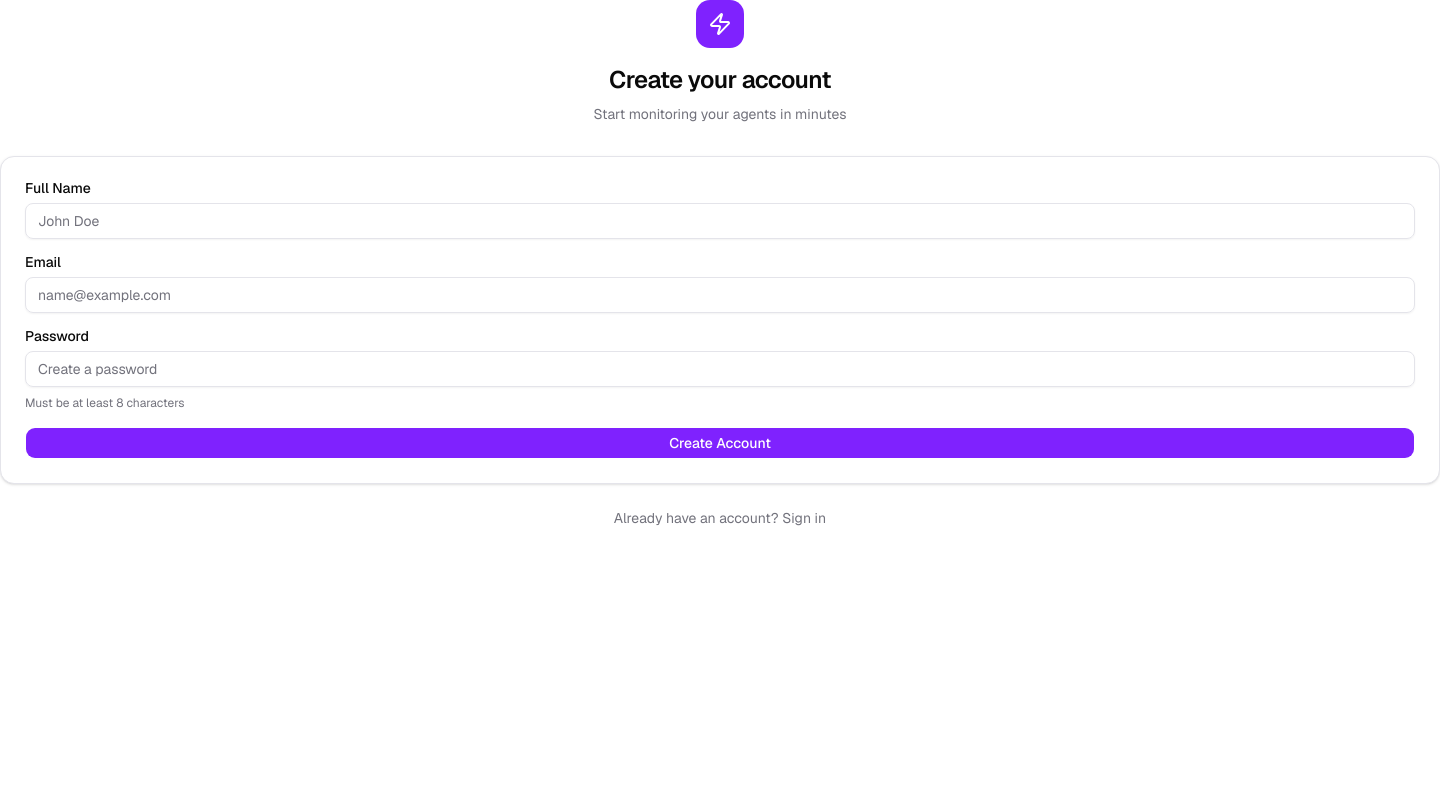
SignUpForm › shows validation error for empty email
The width and height of the screenshot is (1440, 810).
Step 1. Type "password123" into the password field labelled "Password" → {"x": 720, "y": 369}, box x1=25 y1=351 x2=1415 y2=387
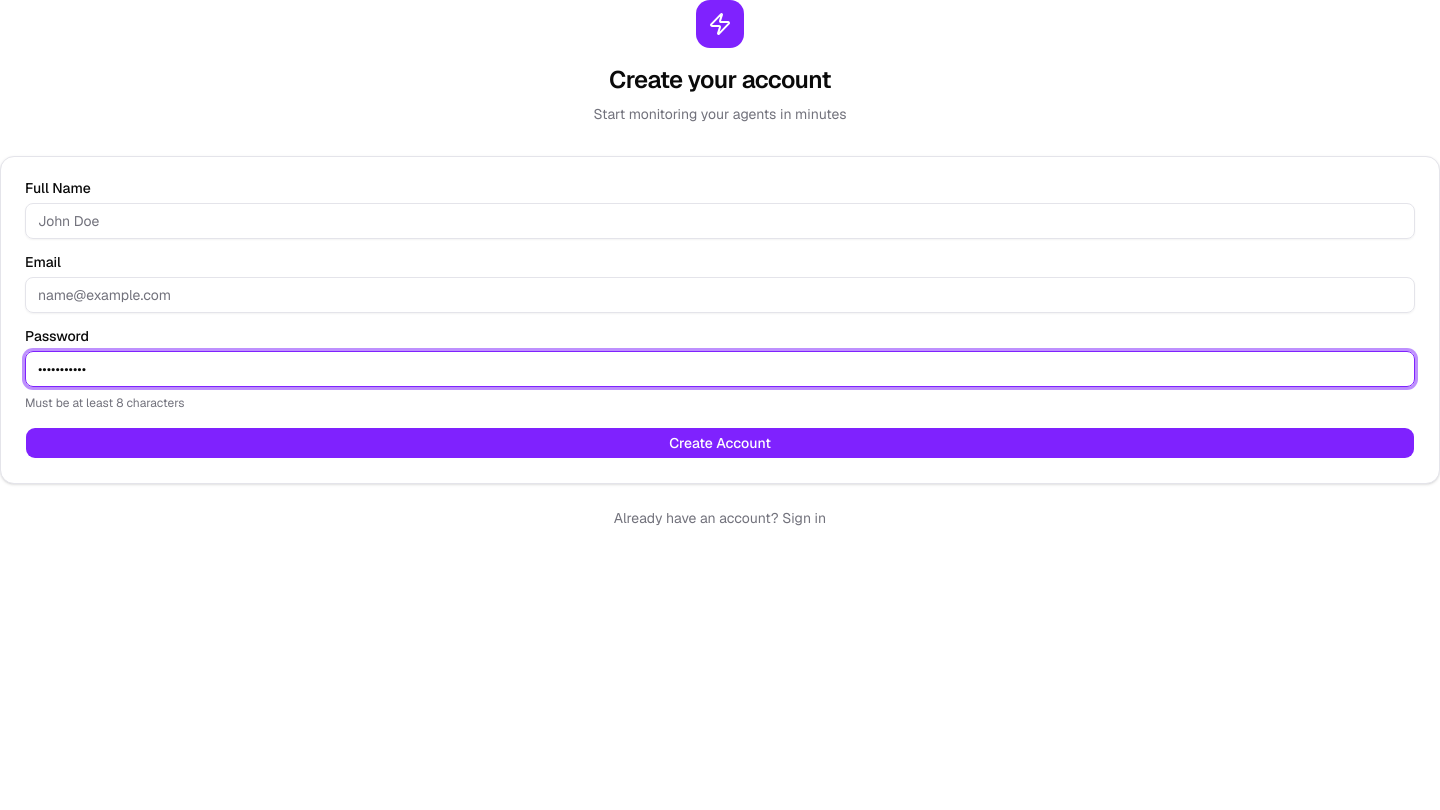
Step 2. Click the button "Create Account" → {"x": 720, "y": 443}, box x1=25 y1=427 x2=1415 y2=459
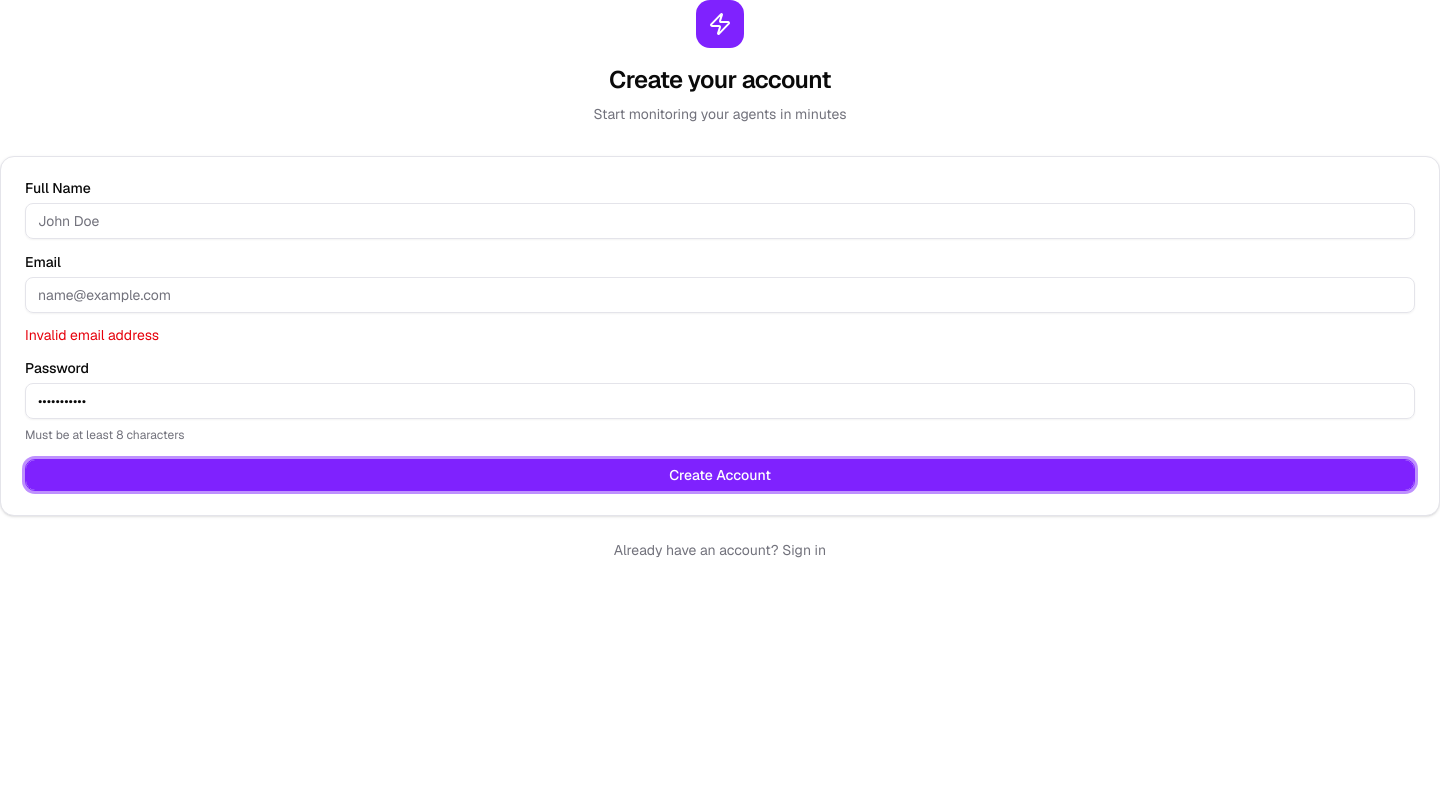
Check: the text "Invalid email address" is shown, box x1=25 y1=326 x2=159 y2=344
